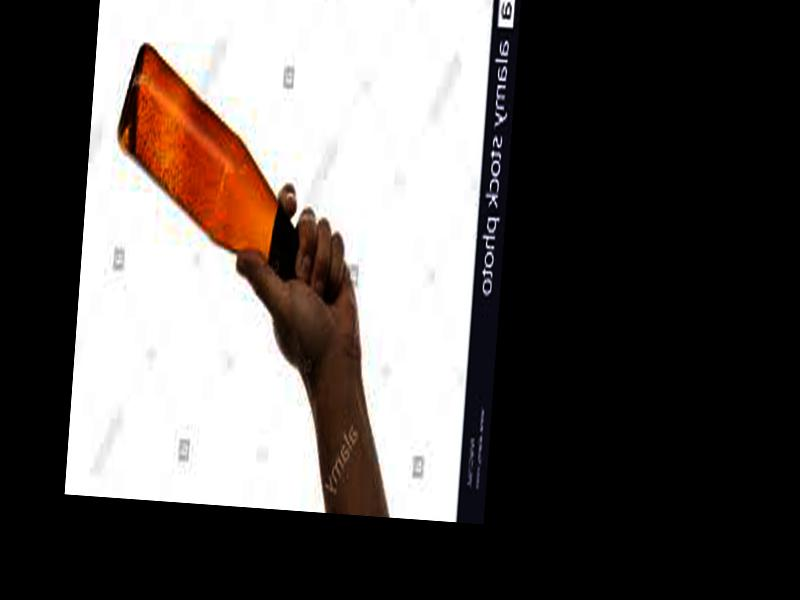Beer: (105, 42, 351, 298)
